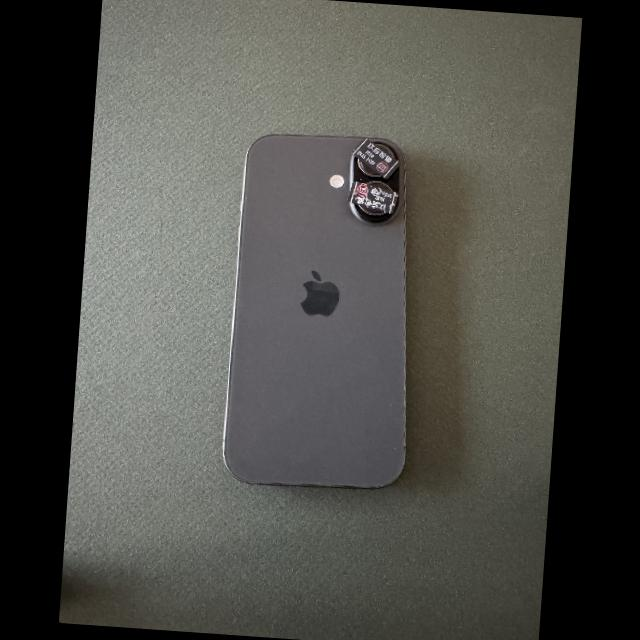lens: (357, 159, 380, 176), (364, 181, 392, 191)
phone: (222, 135, 405, 488)
sticker: (351, 138, 400, 179), (348, 181, 400, 214)
